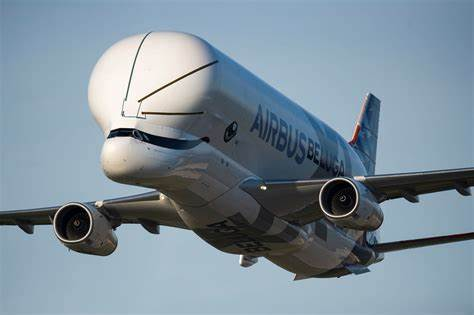Aeronef_commercial: (1, 27, 474, 289)
